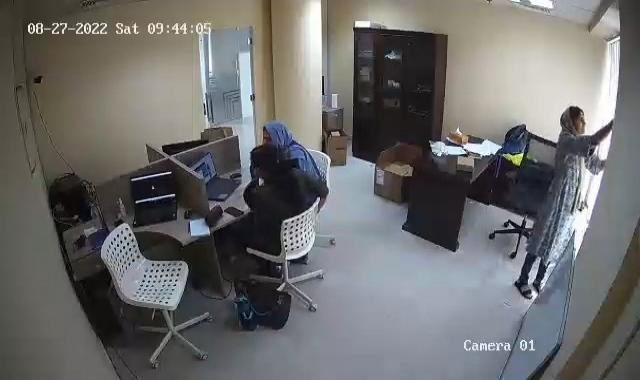no_hairnet: (247, 148, 287, 182), (553, 105, 591, 139), (265, 118, 294, 157)
